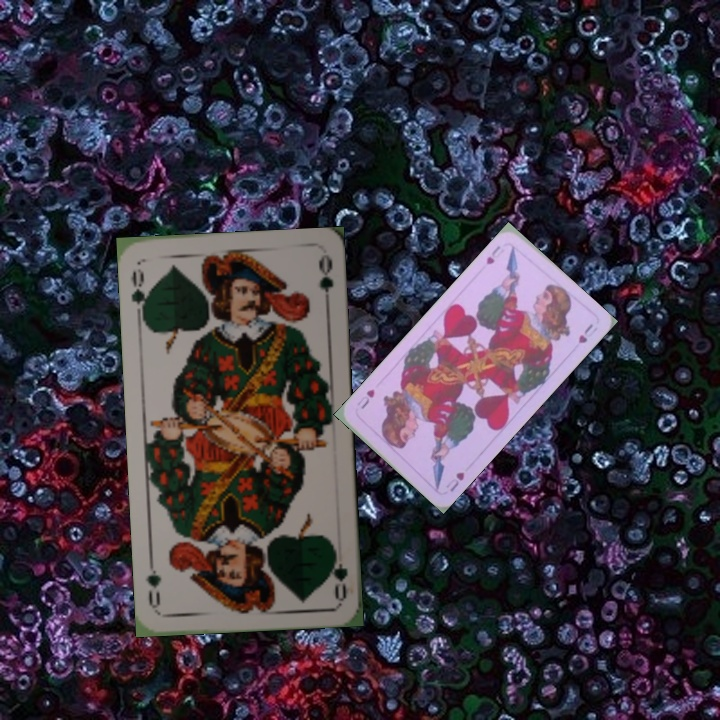GO: (326, 542, 351, 601), (127, 264, 153, 320)
HU: (441, 468, 467, 495), (482, 241, 507, 267)
